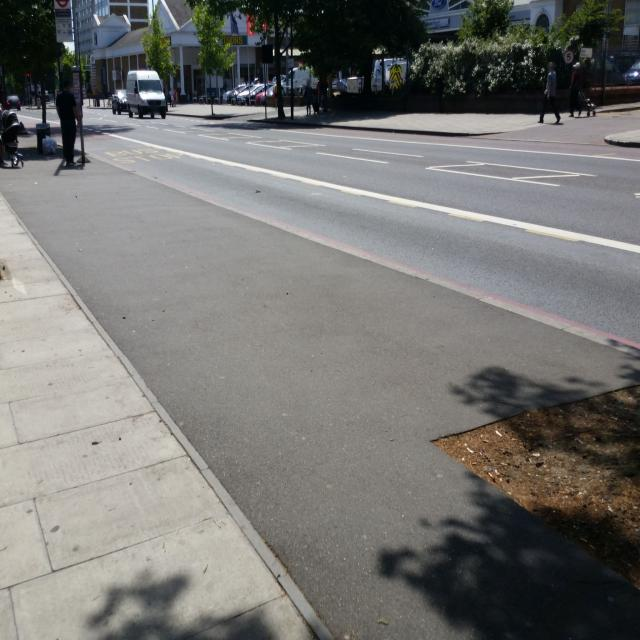bike: (0, 102, 26, 169)
car: (126, 69, 168, 120), (110, 87, 128, 115), (6, 94, 22, 111)
